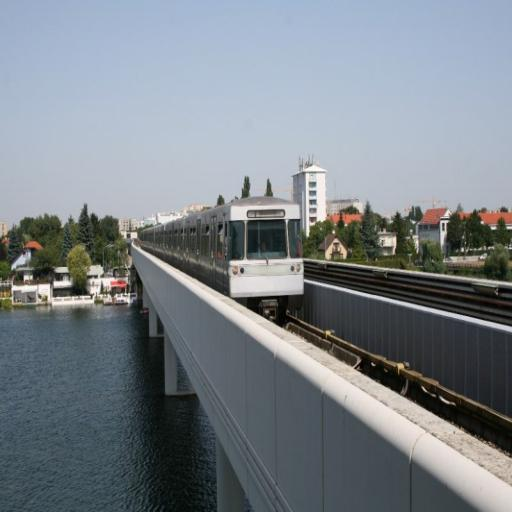Silberpfeil: (140, 198, 306, 296)
